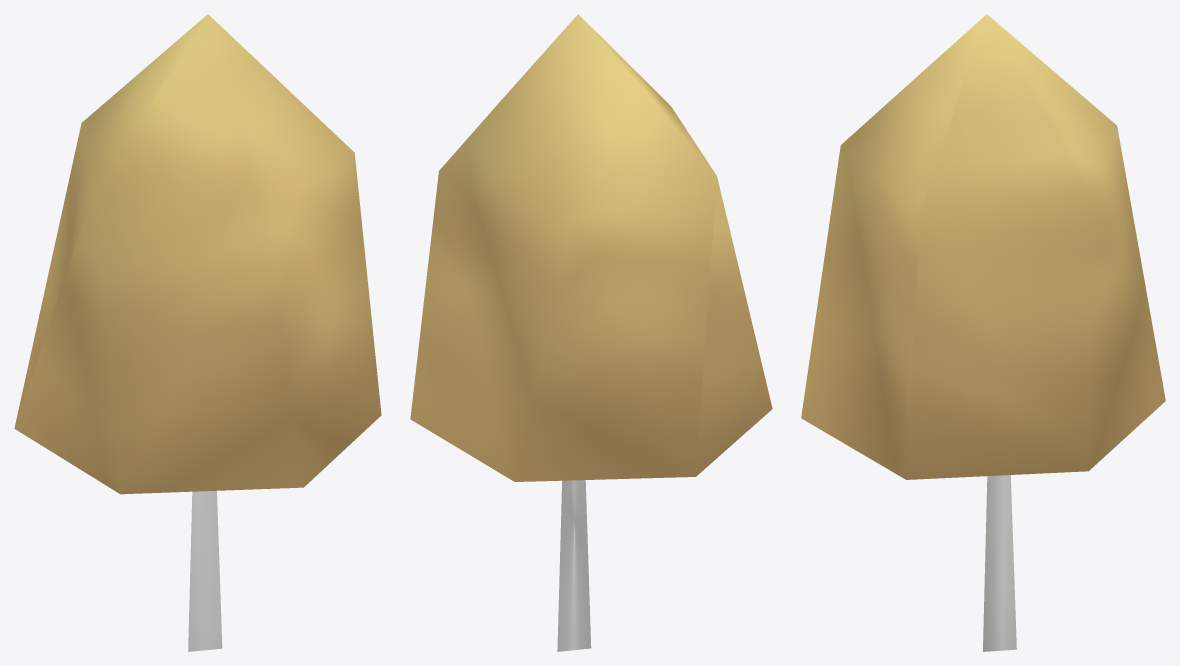
3 views of the same model, side by side, from view 1: azimuth 30°, elevation 25°; view 2: azimuth 150°, elevation 25°; view 3: azimuth 270°, elevation 25° (orthographic).
Visible parts, largest first — view 1: LOD2Berez; view 2: LOD2Berez; view 3: LOD2Berez.
Boxes of the visible parts, bbox=[...] form: LOD2Berez: bbox=[14, 14, 381, 651]; LOD2Berez: bbox=[410, 14, 772, 651]; LOD2Berez: bbox=[801, 14, 1165, 651].
Bounding box in the file's own units: 9.45 × 19.86 × 10.38.
1 material, 1 textured.
